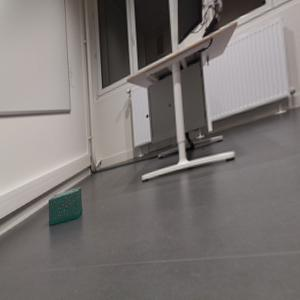small: (46, 185, 88, 227)
